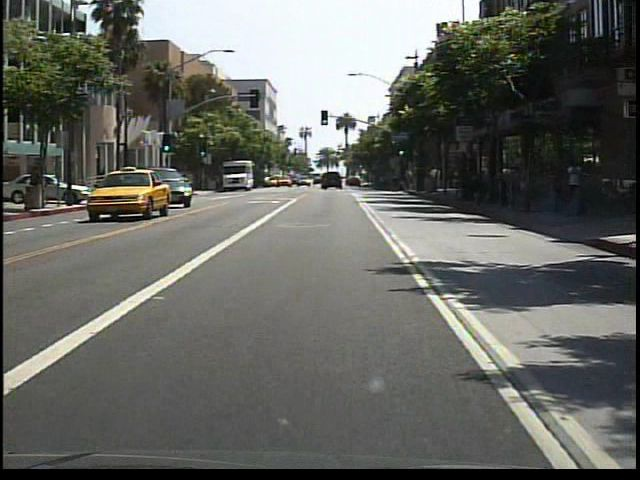person: (564, 155, 588, 192)
